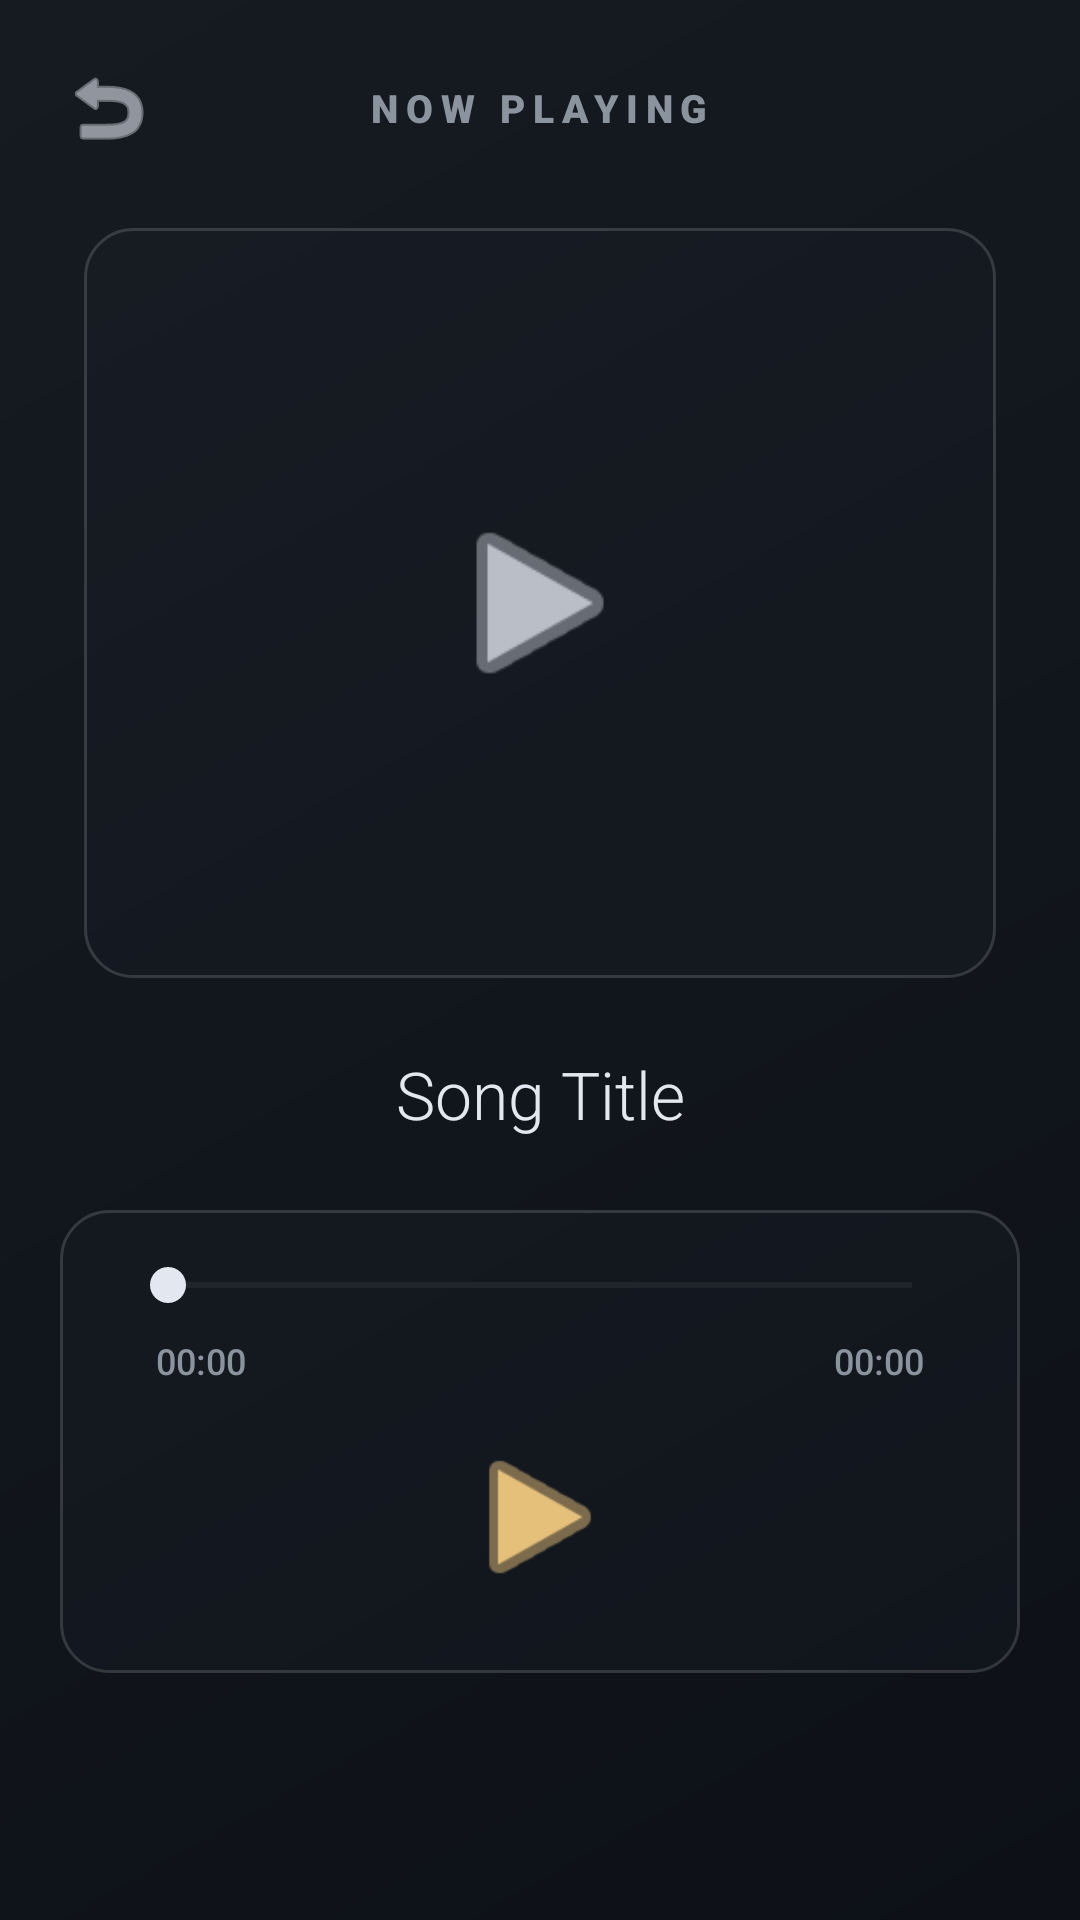

Icon click points for this 1080w x 1920h phone screenshot, format (x,y):
Back: (109,108)
Play Pause Toggle: (540,1517)
